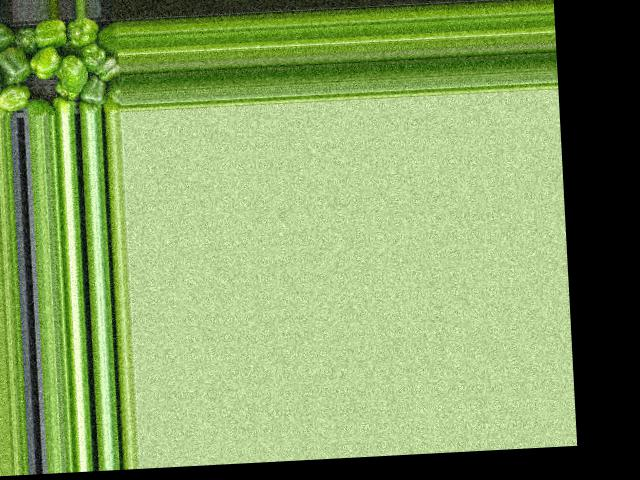bell_pepper: (97, 29, 119, 57)
